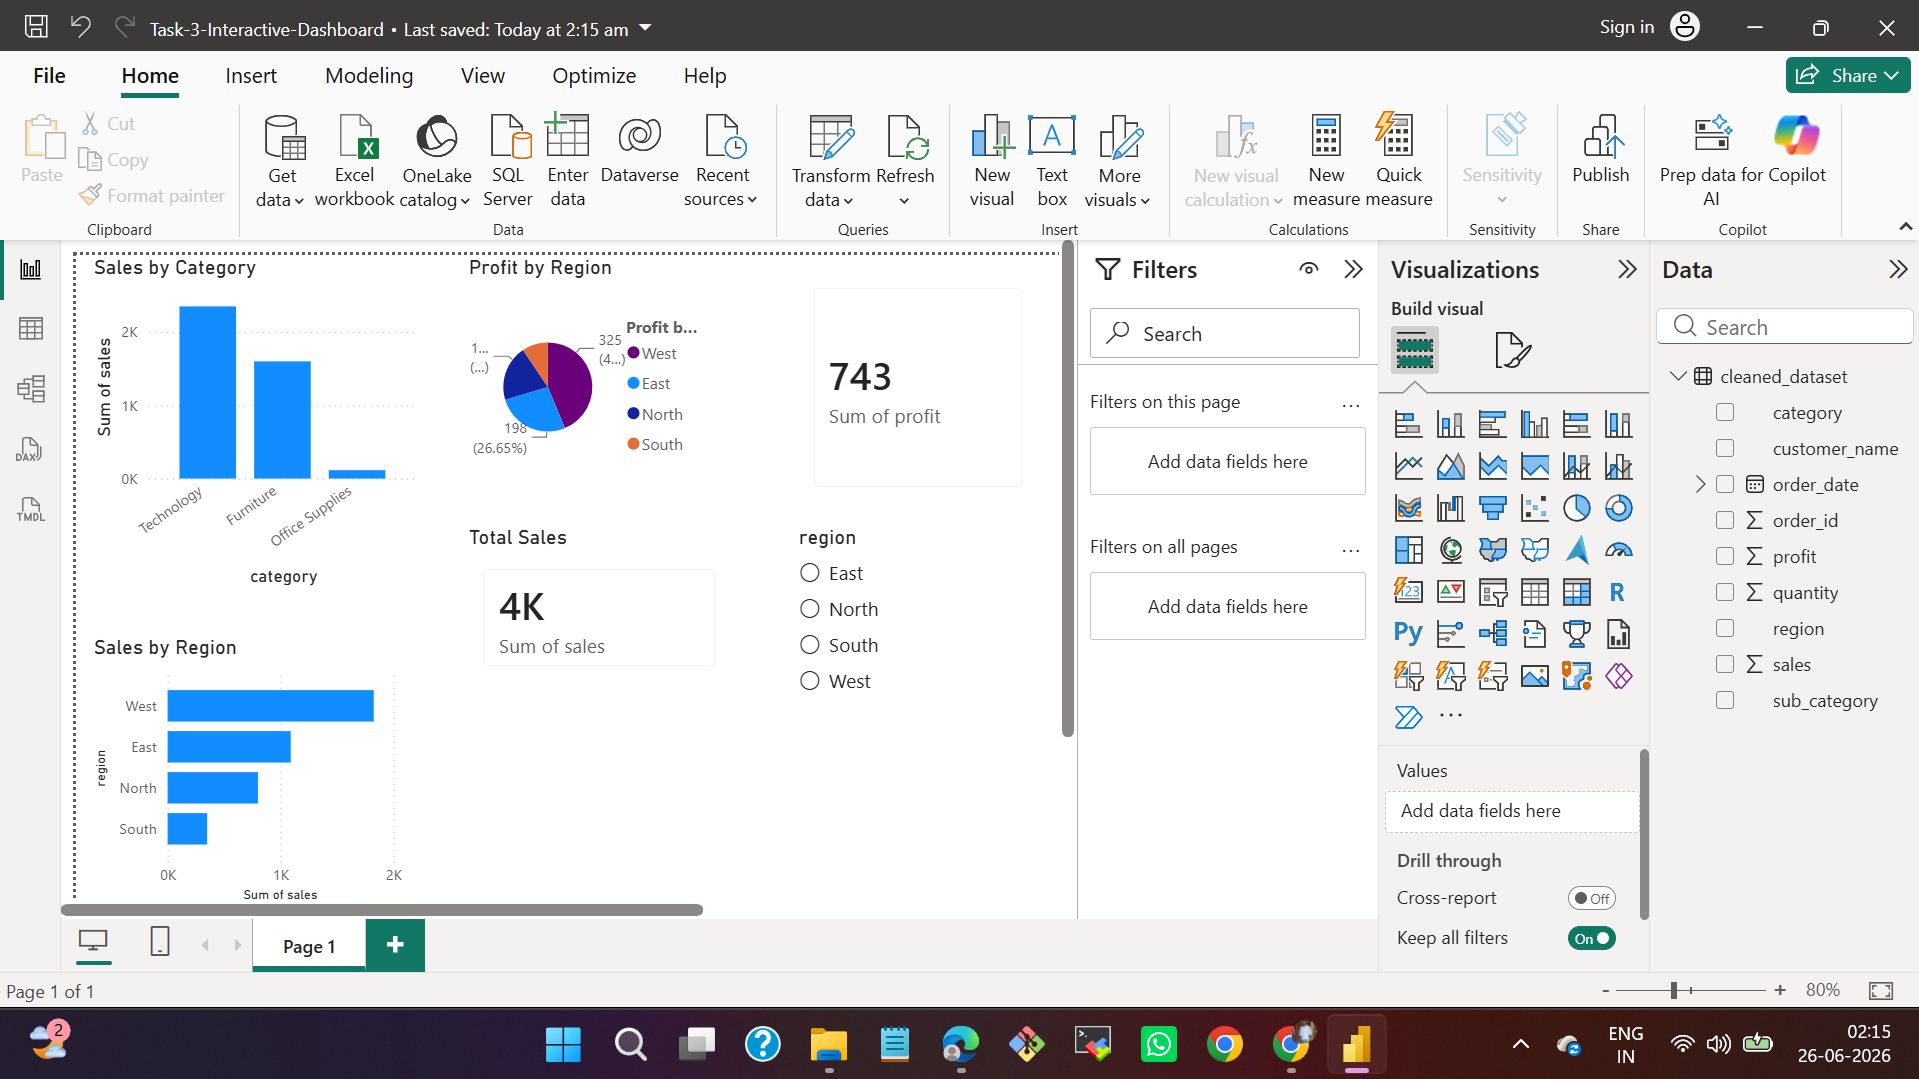

The page's visual inventory and layout, read from the dashboard file:
{"tool":"powerbi","page":{"name":"Page 1","canvas":[1280,720],"ordinal":0},"visuals":[{"type":"clusteredColumnChart","title":"Sales by Category","fields":{"Category":["cleaned_dataset.category"],"Y":["Sum(cleaned_dataset.sales)"]},"box":[10,0,280,280],"z":0},{"type":"pieChart","title":"Profit by Region","fields":{"Category":["cleaned_dataset.region"],"Y":["Sum(cleaned_dataset.profit)"]},"box":[322.5,0,208.8,200],"z":1},{"type":"clusteredBarChart","title":"Sales by Region","fields":{"Category":["cleaned_dataset.region"],"Y":["Sum(cleaned_dataset.sales)"]},"box":[10,316.2,266.2,227.5],"z":2},{"type":"cardVisual","title":"Total Orders","fields":{"Data":["Count(cleaned_dataset.order_id)"]},"box":[10,554,266,166],"z":3},{"type":"cardVisual","title":"Total Sales","fields":{"Data":["Sum(cleaned_dataset.sales)"]},"box":[322.5,225,227.5,135],"z":4},{"type":"listSlicer","fields":{"Values":["cleaned_dataset.region"]},"box":[597,225,209,150],"z":6},{"type":"cardVisual","fields":{"Data":["Sum(cleaned_dataset.profit)"]},"box":[597.5,10,208.8,200],"z":7}]}

Visuals, with their boxes on the page's 1280x720 design canvas (x1, y1, x2, y2). These are canvas units, not pixel positions in the 1919x1079 screenshot, which may show the page scaled, cropped or inside an application window:
"Sales by Category" clusteredColumnChart: l=10, t=0, r=290, b=280
"Profit by Region" pieChart: l=322, t=0, r=531, b=200
"Sales by Region" clusteredBarChart: l=10, t=316, r=276, b=544
"Total Orders" cardVisual: l=10, t=554, r=276, b=720
"Total Sales" cardVisual: l=322, t=225, r=550, b=360
listSlicer - cleaned_dataset.region: l=597, t=225, r=806, b=375
cardVisual - Sum(cleaned_dataset.profit): l=598, t=10, r=806, b=210
